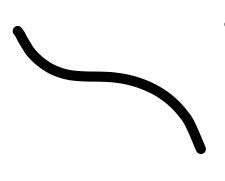b: (4, 17, 78, 97)
